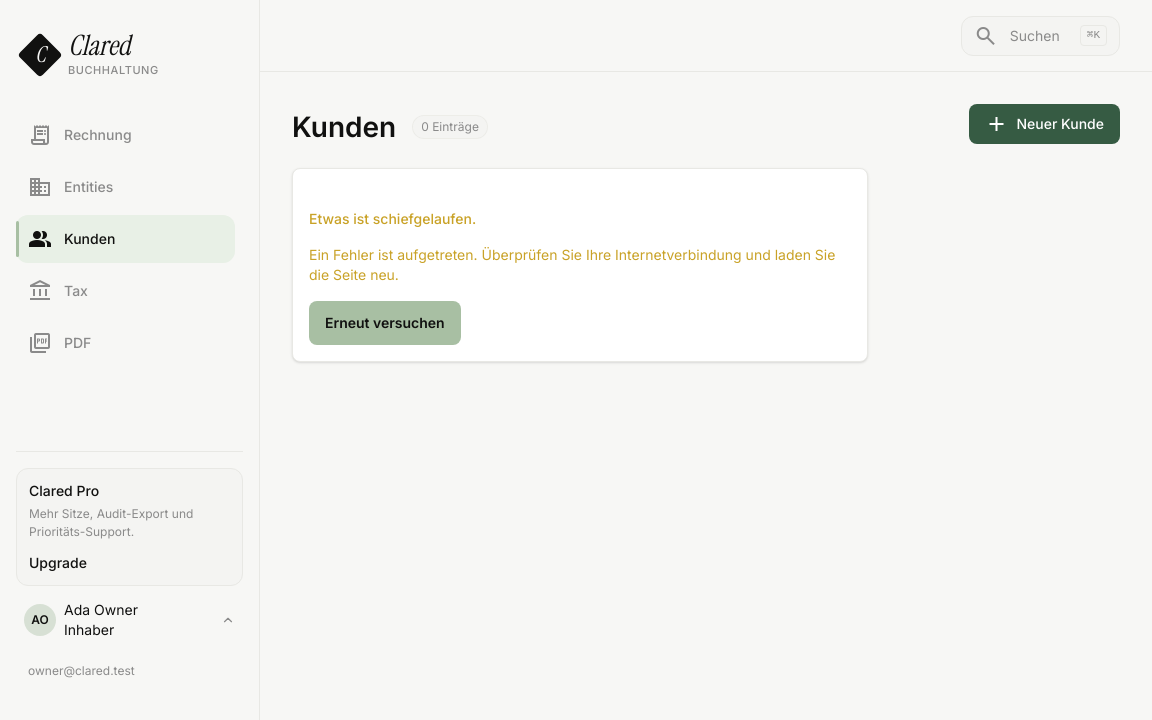
Kunden List+Panel › renders localized error copy and retry re-executes the live kunden loader
Expected: the text "Etwas ist schiefgelaufen." is shown, [309, 210, 476, 227]
Click the button "Erneut versuchen".
click(385, 323)  # box [309, 301, 461, 345]
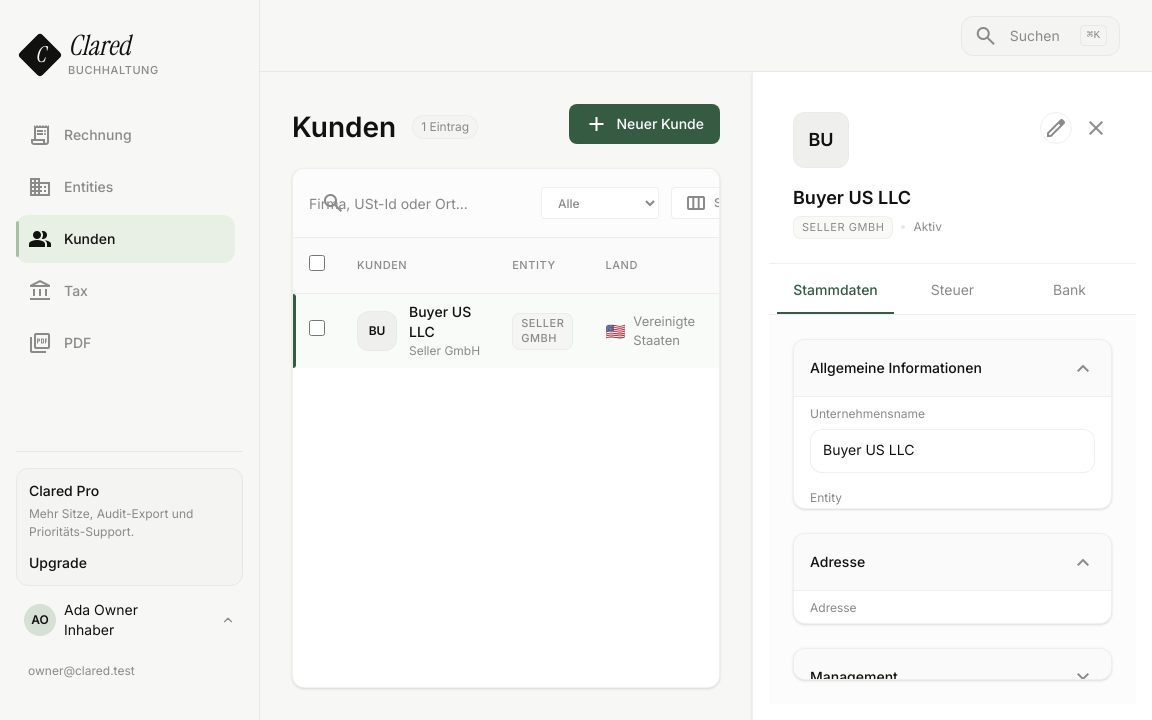
Result: the button with test id "kunden-row" is shown at [357, 302, 480, 360]
Result: the element with test id "kunden-detail" is shown at [752, 72, 1151, 719]
